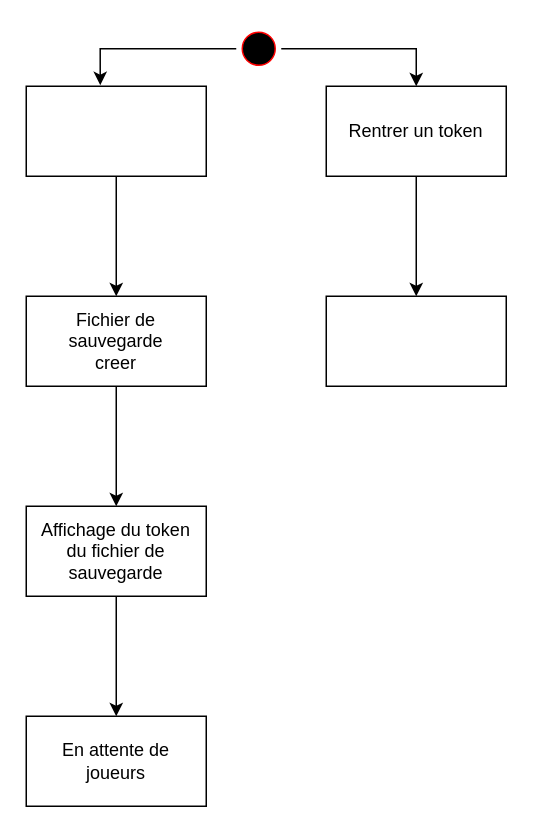
This 533x833 diagram has some shape labels left out. The centre of each missing label's shape, as x and y in pixels:
Cree une partie: point 115,130
Recherche du token: point 415,340
